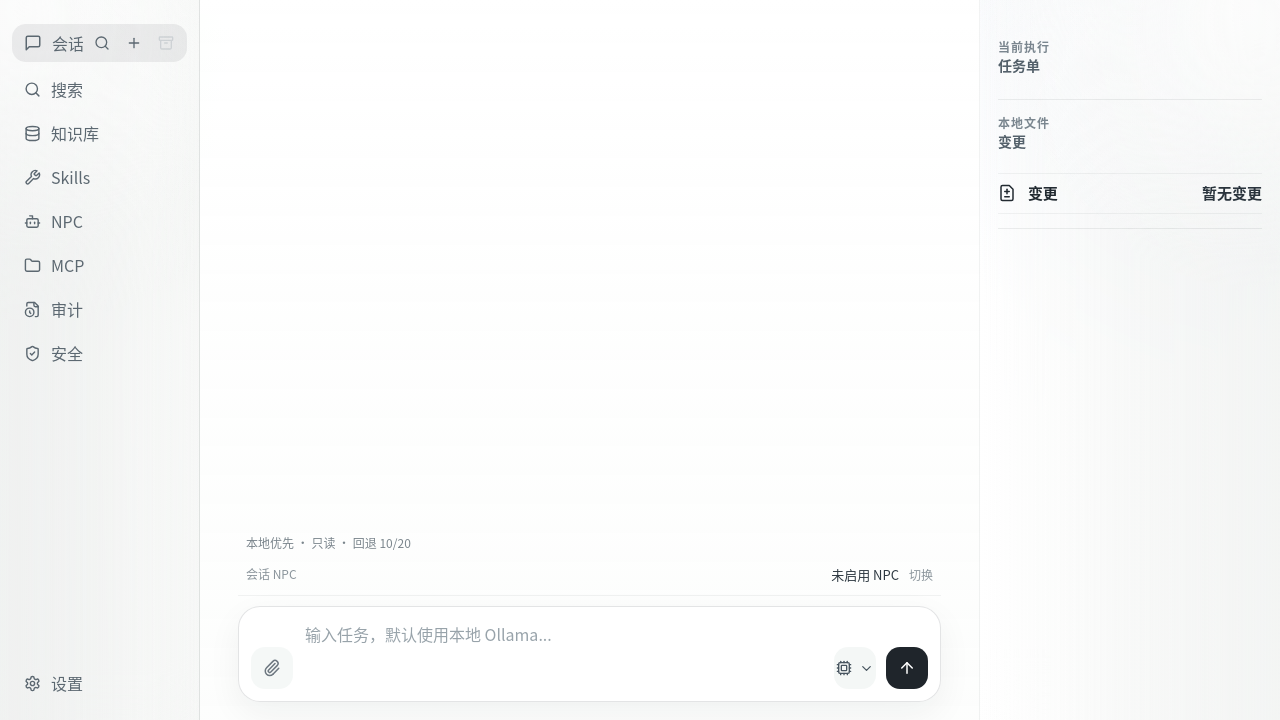
App continuation flow › continues from the latest npc-assisted RAG shell handoff preview without repeating the full request
Check: the button named "选择模型：qwen2.5-coder:7b" is shown, box x1=834 y1=647 x2=876 y2=689
Check: the button with class "send-button" is shown, box x1=886 y1=647 x2=928 y2=689
In the text box with placeholder "输入任务，默认使用本地 Ollama...": (562, 654) x1=303 y1=619 x2=822 y2=689, type "use npc collaboration to review local shell permission rules and preview the next safe shell step to create a temp-output folder"
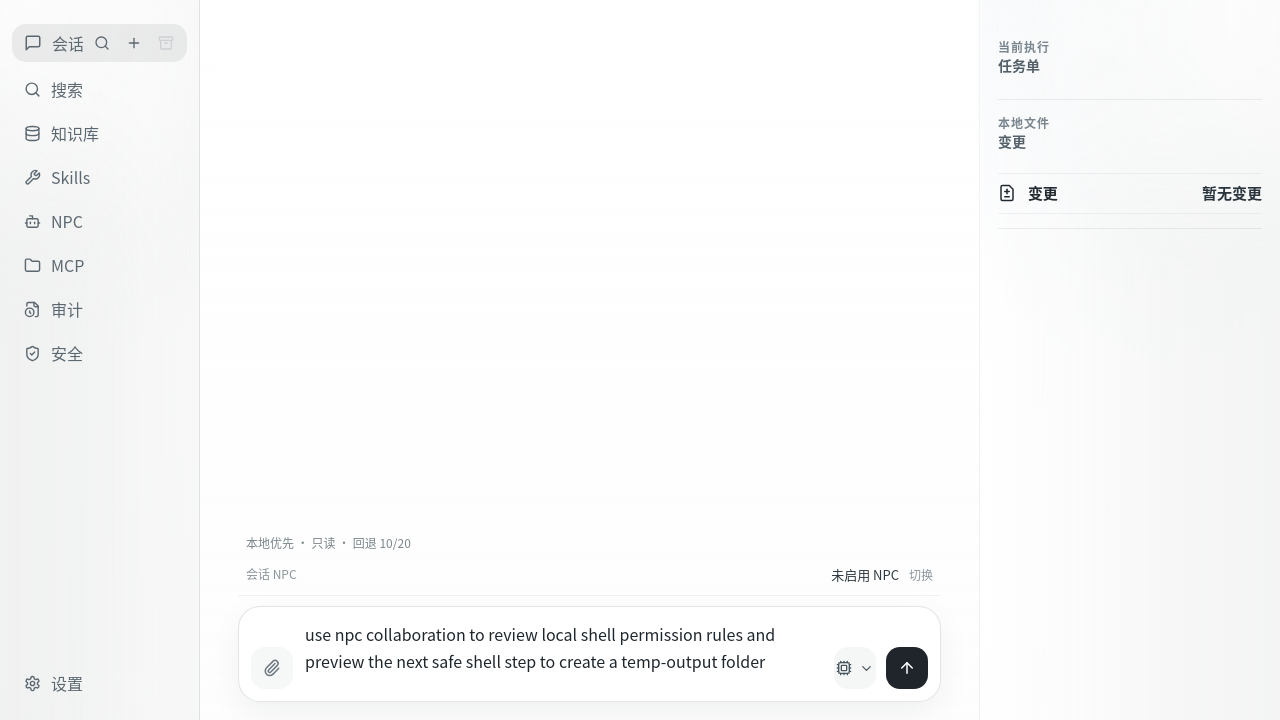
Click the button with class "send-button": click(907, 668) x1=886 y1=647 x2=928 y2=689
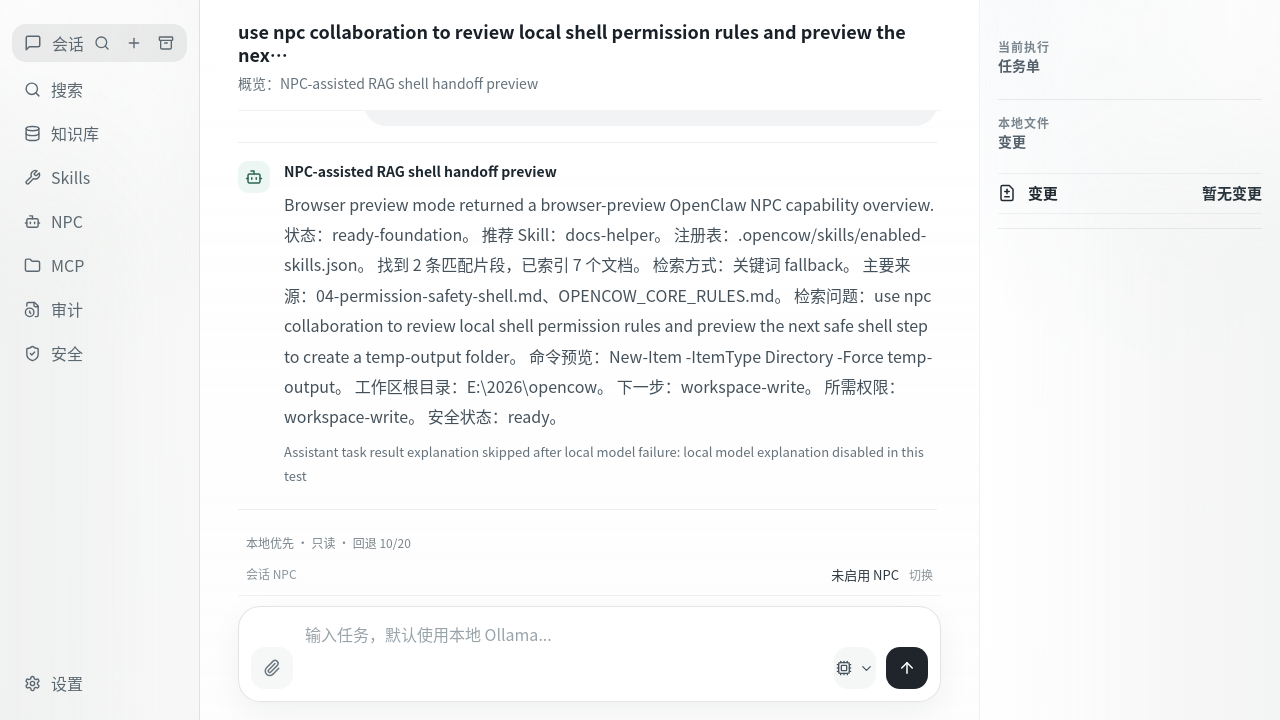
Check: the text "概览：NPC-assisted RAG shell handoff preview" is shown, box x1=238 y1=73 x2=538 y2=93
In the text box with placeholder "输入任务，默认使用本地 Ollama...": (562, 654) x1=303 y1=619 x2=822 y2=689, type "continue"
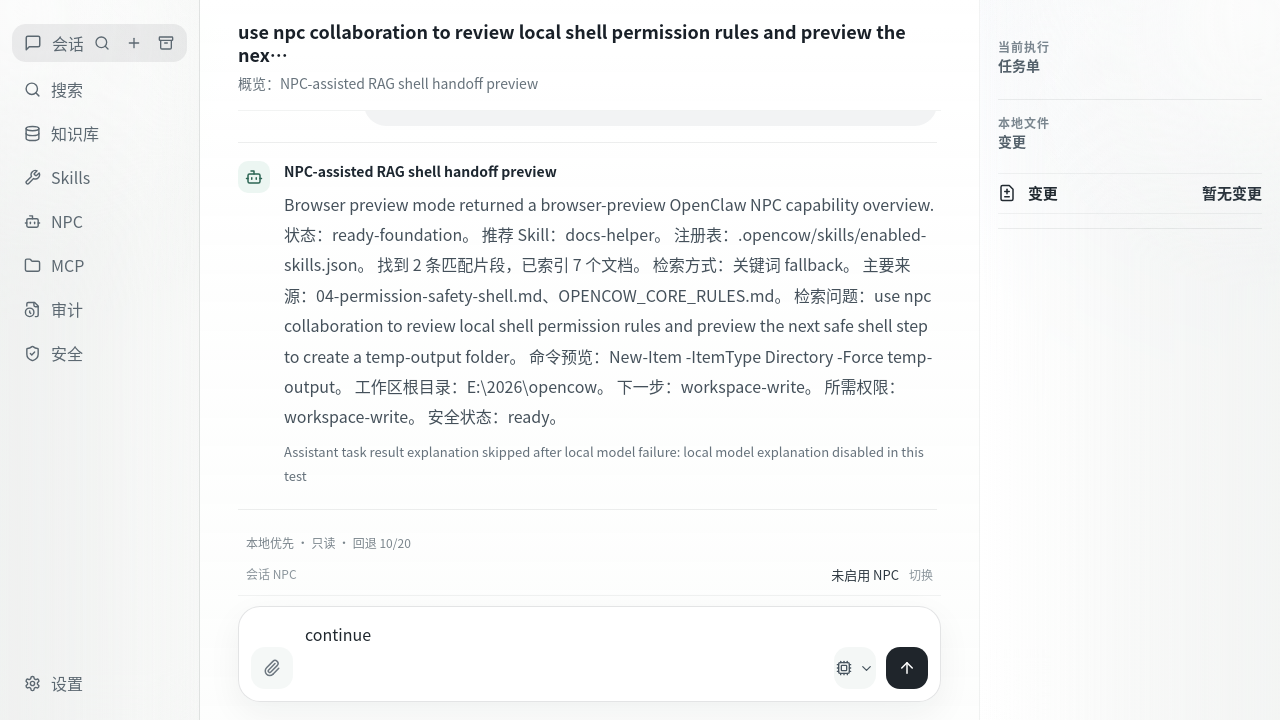
Click the button with class "send-button": click(907, 668) x1=886 y1=647 x2=928 y2=689
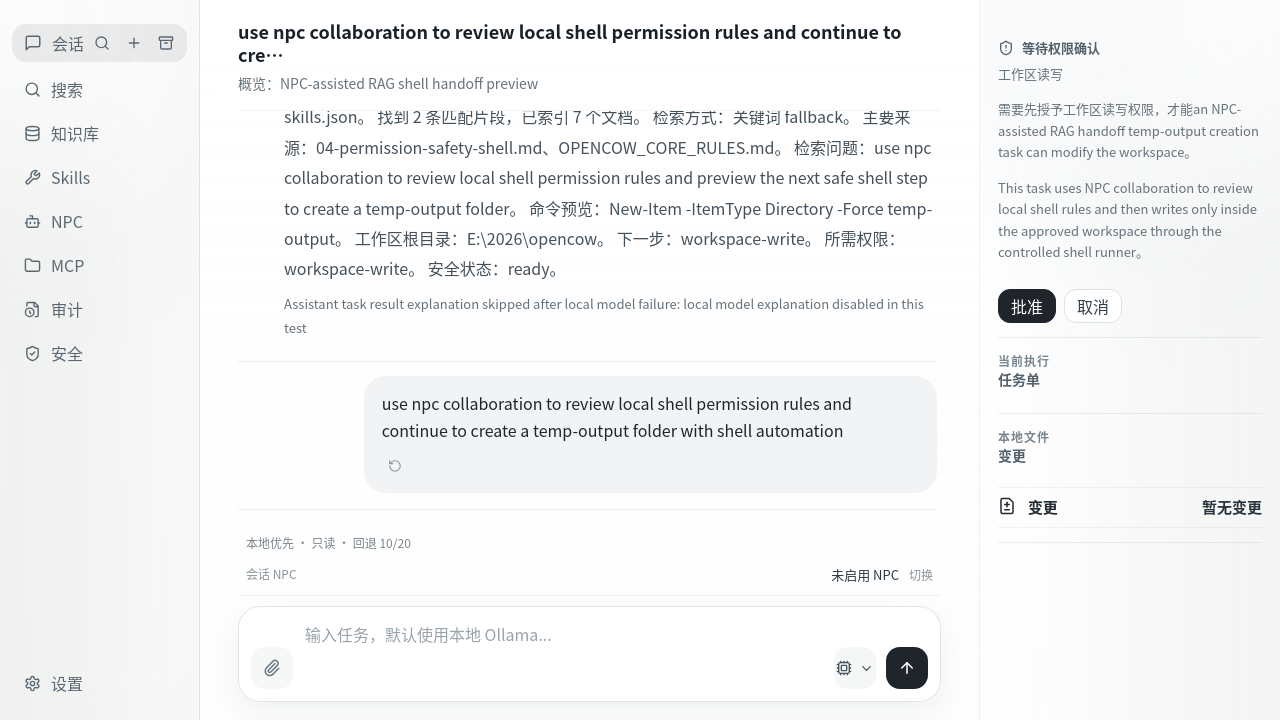
Check: the text "等待权限确认" is shown, box x1=1022 y1=38 x2=1100 y2=57
Click the button "批准": click(1027, 306) x1=998 y1=288 x2=1056 y2=322
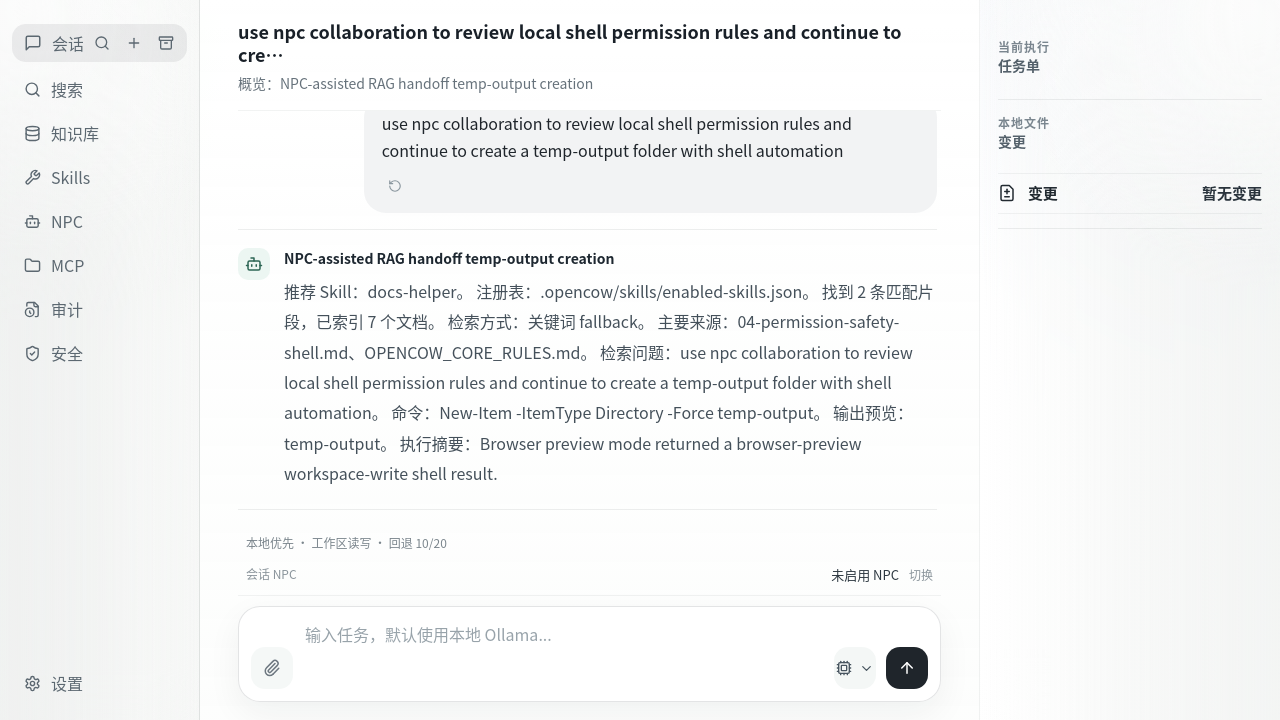
Check: the text "等待权限确认" is gone
Check: the text "概览：NPC-assisted RAG handoff temp-output creation" is shown, box x1=238 y1=73 x2=593 y2=93
